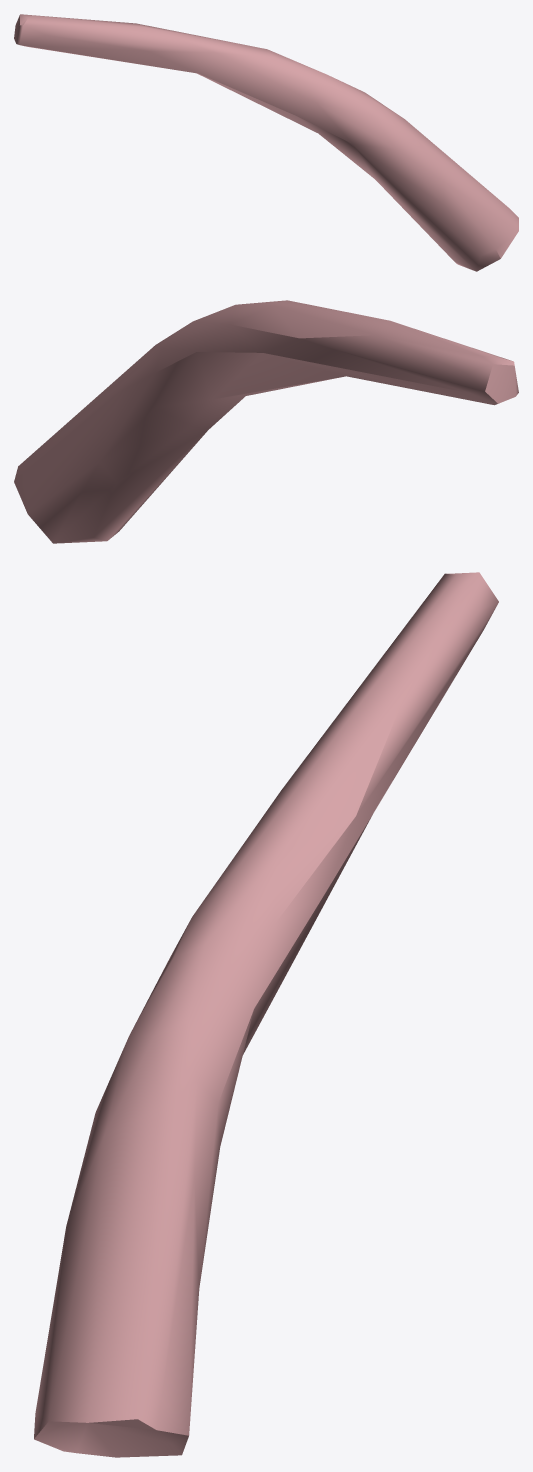
File: fma68223_fj2461.glb
3 views of the same model, one above another, from view 1: azimuth 30°, elevation 25°; view 2: azimuth 150°, elevation 25°; view 3: azimuth 270°, elevation 25° (orthographic). The views are drawn at different scales.
Visible parts, largest first — view 1: FMA68223_FJ2461; view 2: FMA68223_FJ2461; view 3: FMA68223_FJ2461.
Boxes of the visible parts, x1,y1,x2,y2 form: FMA68223_FJ2461: (14, 14, 518, 271); FMA68223_FJ2461: (14, 300, 518, 543); FMA68223_FJ2461: (34, 572, 498, 1457).
Bounding box in the file's own units: 0.0294 × 0.0184 × 0.0144.
